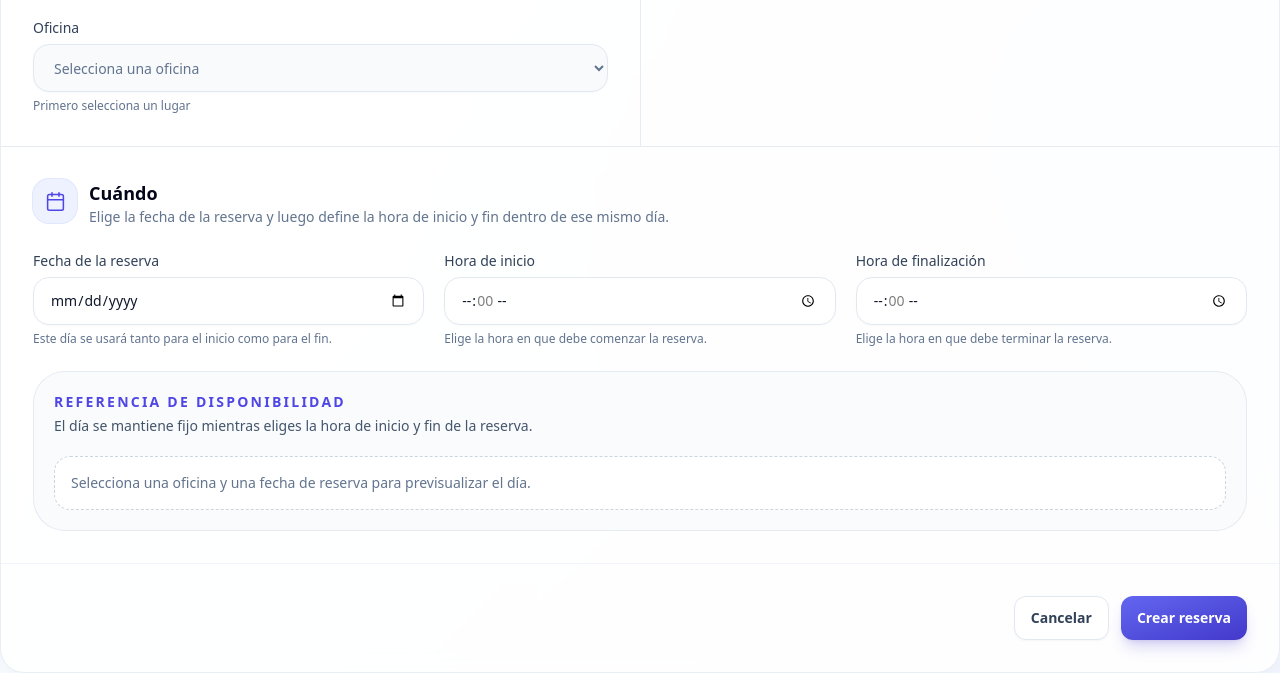
Test case: NewReservationView › blocks submission and surfaces inline errors when fields are empty
This screenshot has width=1280, height=673.
(page scrolled)
Click the button "Crear reserva" at (1184, 618), box [1121,596,1247,640]
(page scrolled)
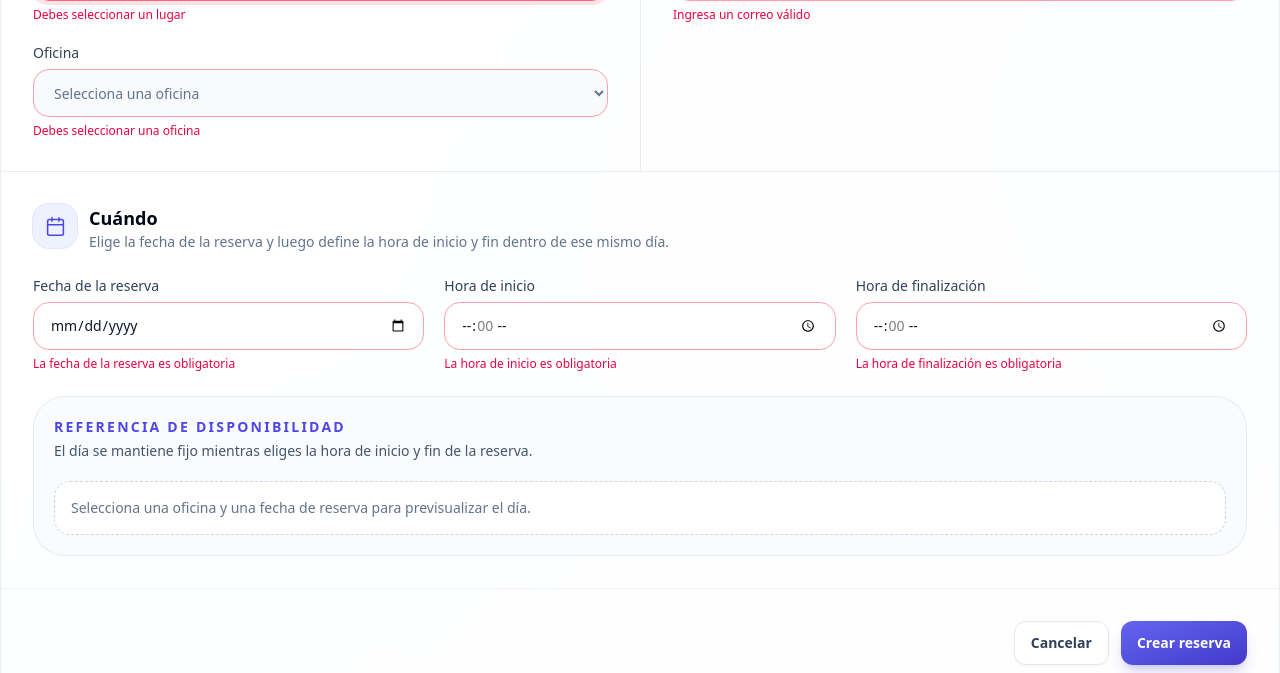
Now the text "Debes seleccionar un lugar" is shown, box [33,6,186,23]
Now the text "Debes seleccionar una oficina" is shown, box [33,122,200,139]
Now the text "Ingresa un correo válido" is shown, box [673,6,810,23]
